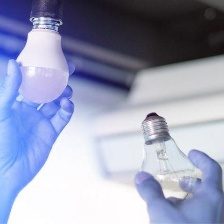light_bulb: (129, 106, 199, 211), (12, 5, 74, 110)
